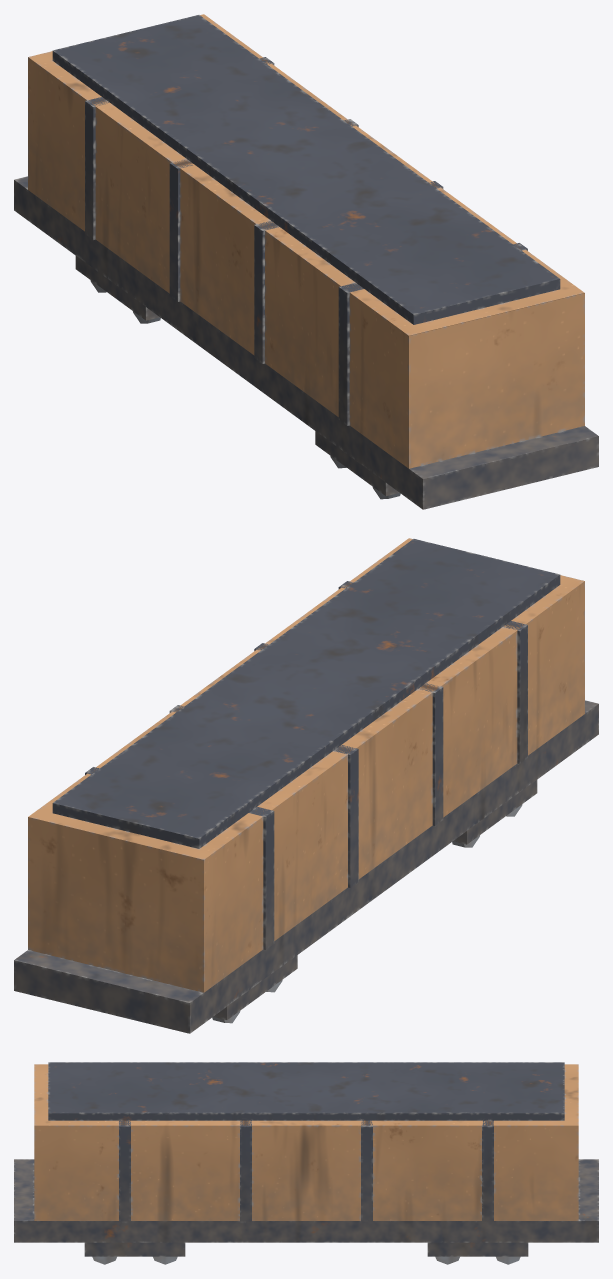
File: vagao_carga_tex.glb
3 renders of one model, top to bottom at view 1: azimuth 30°, elevation 25°; view 2: azimuth 150°, elevation 25°; view 3: azimuth 270°, elevation 25°, orthographic. The views are drawn at different scales.
Parts seen in each view (by area): view 1: vagao_carga_corpo, vagao_carga_truque1, vagao_carga_truque0; view 2: vagao_carga_corpo, vagao_carga_truque0, vagao_carga_truque1; view 3: vagao_carga_corpo, vagao_carga_truque0, vagao_carga_truque1.
Boxes of the visible parts, left/top/right/bottom form: vagao_carga_corpo: left=14, top=14, right=598, bottom=509; vagao_carga_truque1: left=75, top=256, right=160, bottom=323; vagao_carga_truque0: left=315, top=431, right=400, bottom=499; vagao_carga_corpo: left=14, top=538, right=598, bottom=1033; vagao_carga_truque0: left=452, top=780, right=537, bottom=847; vagao_carga_truque1: left=212, top=955, right=297, bottom=1023; vagao_carga_corpo: left=14, top=1062, right=598, bottom=1242; vagao_carga_truque0: left=84, top=1242, right=185, bottom=1264; vagao_carga_truque1: left=427, top=1242, right=528, bottom=1264.
Bounding box in the file's own units: 0.74 × 0.84 × 2.9.
Materials: 1 (1 with a texture image).
